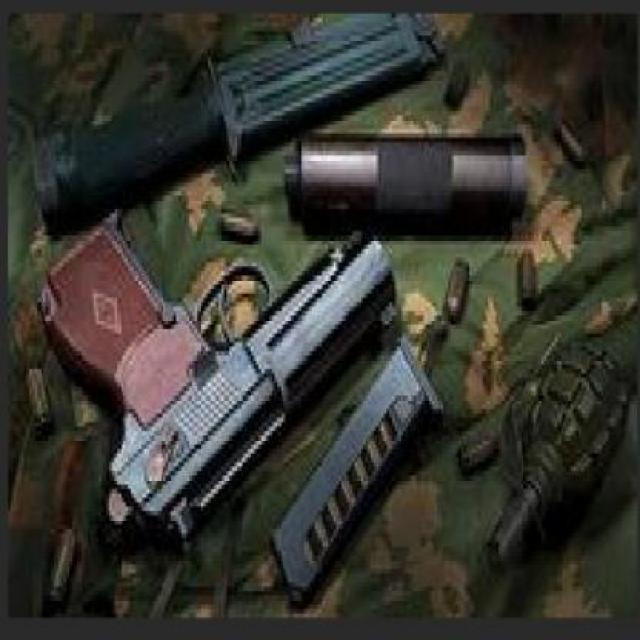Grenade: (483, 330, 634, 572)
Knife: (32, 13, 448, 226)
Pistol: (35, 204, 400, 554)
